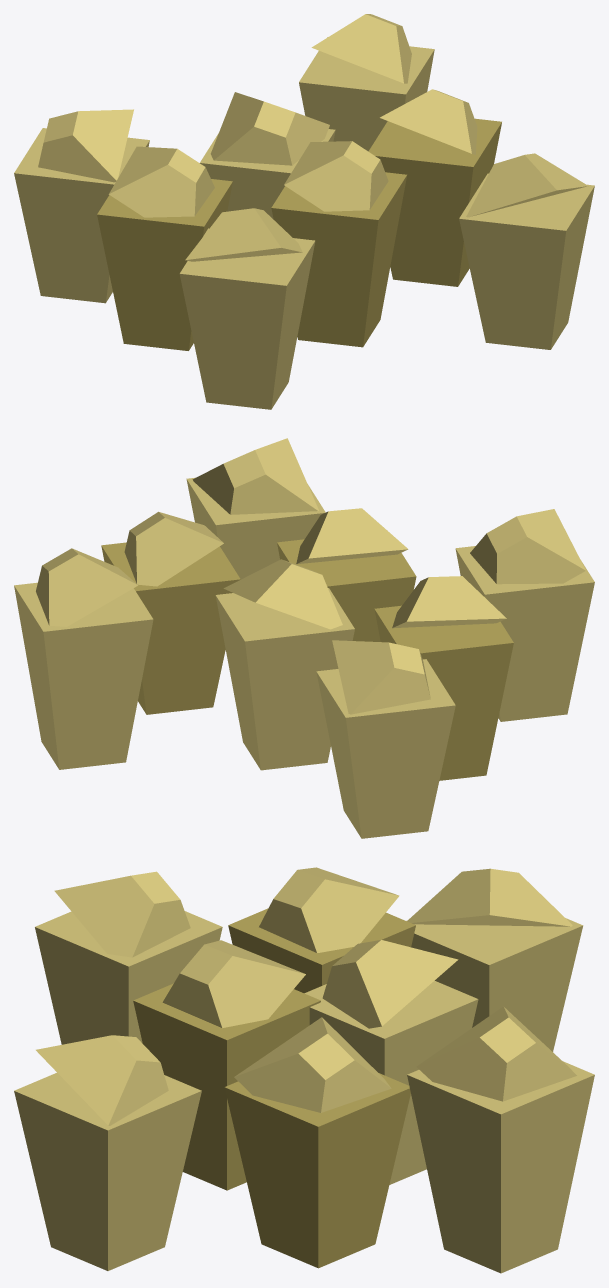
File: crop_barley_3.glb
3 views of the same model, one above another, from view 1: azimuth 30°, elevation 25°; view 2: azimuth 150°, elevation 25°; view 3: azimuth 270°, elevation 25° (orthographic). The views are drawn at different scales.
Parts seen in each view (by area): view 1: crop_barley_3; view 2: crop_barley_3; view 3: crop_barley_3.
Boxes of the visible parts, left/top/right/bottom form: crop_barley_3: left=14, top=14, right=594, bottom=409; crop_barley_3: left=14, top=438, right=594, bottom=838; crop_barley_3: left=14, top=867, right=594, bottom=1273.
Bounding box in the file's own units: 2.07 × 0.9033 × 2.04.
